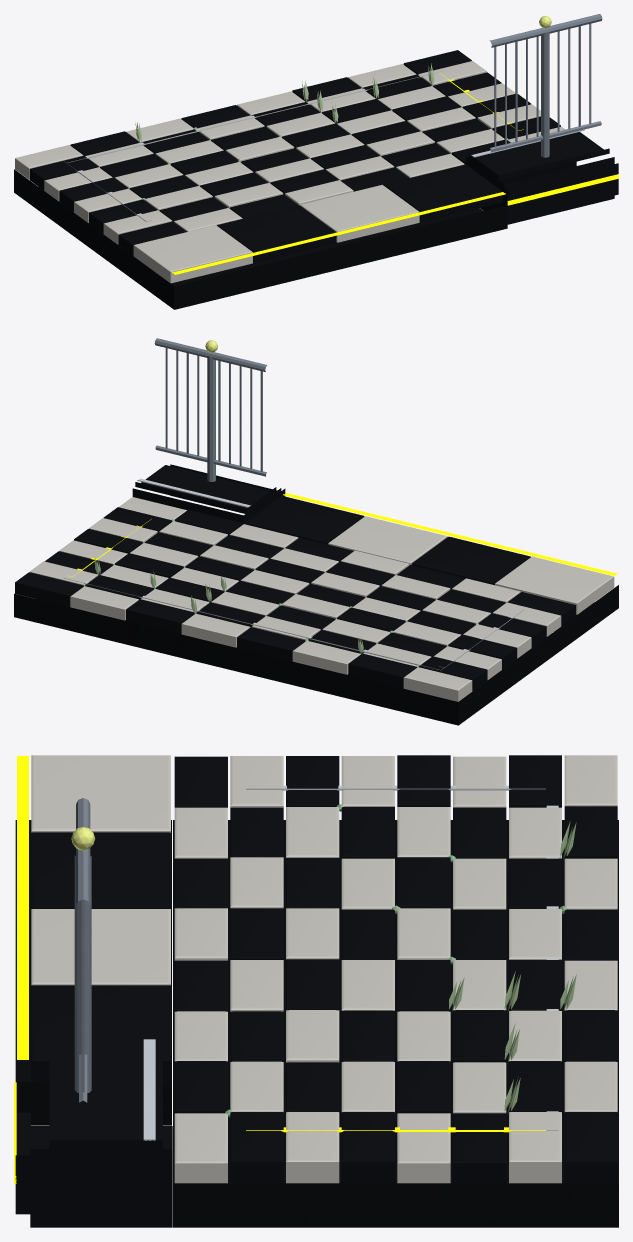
File: tt_terrace_edge_open_cs_a.glb
3 views of the same model, one above another, from view 1: azimuth 30°, elevation 25°; view 2: azimuth 150°, elevation 25°; view 3: azimuth 270°, elevation 25° (orthographic). The views are drawn at different scales.
Parts seen in each view (by area): view 1: Pavers_B, Pavers_A, Threshold_Slab, Pavers_A_T, Coping_Kerb, Pavers_B_T, Guard_Frame, Deck_Slab, Threshold_Amber, Court_Strips_White, Coping_Line, Joint_Tufts; view 2: Pavers_B, Pavers_A, Deck_Slab, Pavers_A_T, Pavers_B_T, Guard_Frame, Coping_Kerb, Threshold_Amber, Threshold_Slab, Court_Strips_White; view 3: Pavers_B, Pavers_A, Deck_Slab, Coping_Kerb, Pavers_A_T, Pavers_B_T, Guard_Frame, Threshold_Amber, Threshold_Slab, Joint_Tufts, Coping_Court_Line, Court_Strips_White.
Boxes of the visible parts, <box> form: Pavers_B: <box>29,50,560,255</box>; Pavers_A: <box>15,61,565,244</box>; Threshold_Slab: <box>132,205,507,309</box>; Pavers_A_T: <box>133,184,419,283</box>; Coping_Kerb: <box>466,132,618,224</box>; Pavers_B_T: <box>217,164,502,262</box>; Guard_Frame: <box>489,14,602,157</box>; Deck_Slab: <box>14,161,576,278</box>; Threshold_Amber: <box>172,192,505,274</box>; Court_Strips_White: <box>64,71,443,221</box>; Coping_Line: <box>507,174,618,205</box>; Joint_Tufts: <box>135,63,434,142</box>; Pavers_B: <box>15,507,575,690</box>; Pavers_A: <box>30,497,561,701</box>; Deck_Slab: <box>14,593,576,725</box>; Pavers_A_T: <box>328,516,614,614</box>; Pavers_B_T: <box>245,496,530,585</box>; Guard_Frame: <box>154,338,267,481</box>; Coping_Kerb: <box>132,464,285,524</box>; Threshold_Amber: <box>283,493,617,575</box>; Threshold_Slab: <box>553,585,618,638</box>; Court_Strips_White: <box>63,578,524,670</box>; Pavers_B: <box>174,755,617,1183</box>; Pavers_A: <box>174,755,617,1183</box>; Deck_Slab: <box>173,820,618,1227</box>; Coping_Kerb: <box>15,1048,172,1227</box>; Pavers_A_T: <box>31,755,170,985</box>; Pavers_B_T: <box>31,832,170,1081</box>; Guard_Frame: <box>74,798,91,1102</box>; Threshold_Amber: <box>17,756,28,1059</box>; Threshold_Slab: <box>15,820,171,1125</box>; Joint_Tufts: <box>449,821,576,1112</box>; Coping_Court_Line: <box>143,1039,155,1140</box>; Court_Strips_White: <box>246,785,558,1130</box>.
Size of what is drawn, in the model's own units: 4 by 1.6 by 2.51.
9 materials, 4 textured.
